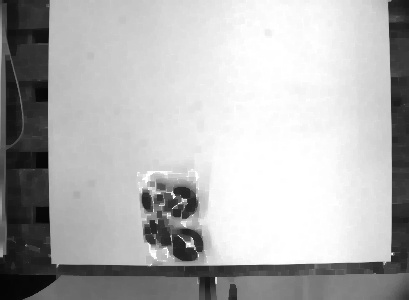t1: (132, 167, 208, 270)
